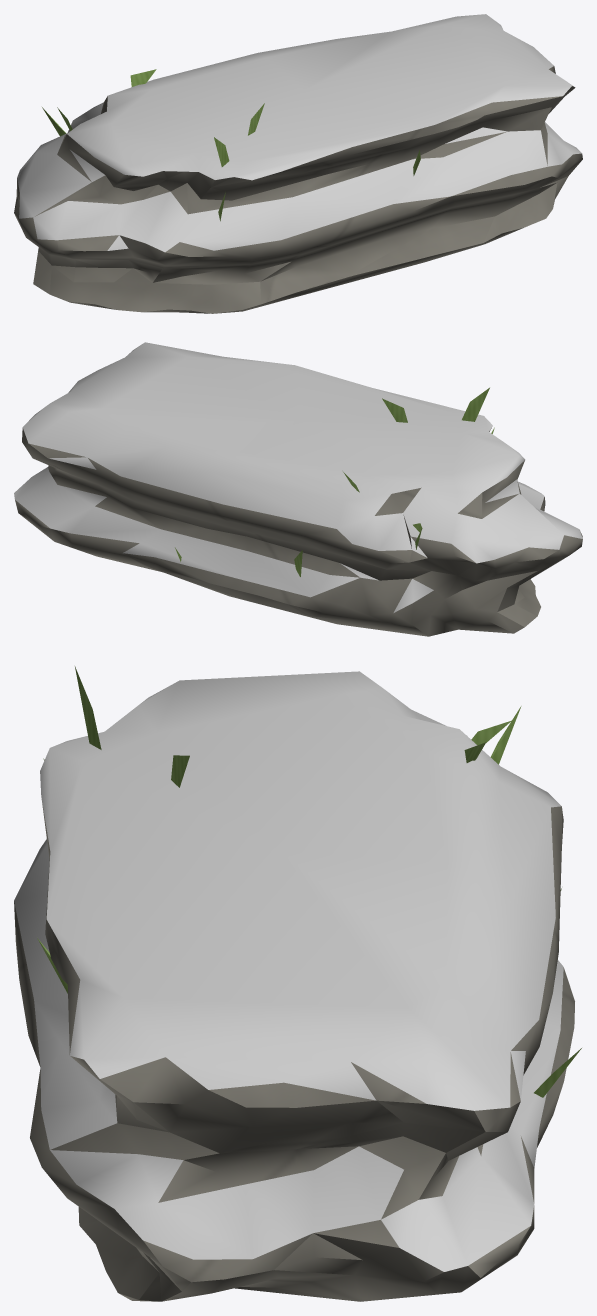
File: Furn_Rock_Ledge.fbx
3 renders of one model, top to bottom at view 1: azimuth 30°, elevation 25°; view 2: azimuth 150°, elevation 25°; view 3: azimuth 270°, elevation 25°, orthographic. The views are drawn at different scales.
Visible parts, largest first — view 1: Furn_Rock_Ledge; view 2: Furn_Rock_Ledge; view 3: Furn_Rock_Ledge.
Part boxes in pixels (x1,y1,x2,y2): Furn_Rock_Ledge: (14,14,582,313); Furn_Rock_Ledge: (14,342,582,636); Furn_Rock_Ledge: (14,666,581,1301).
Bounding box in the file's own units: 3 × 1 × 1.5.
